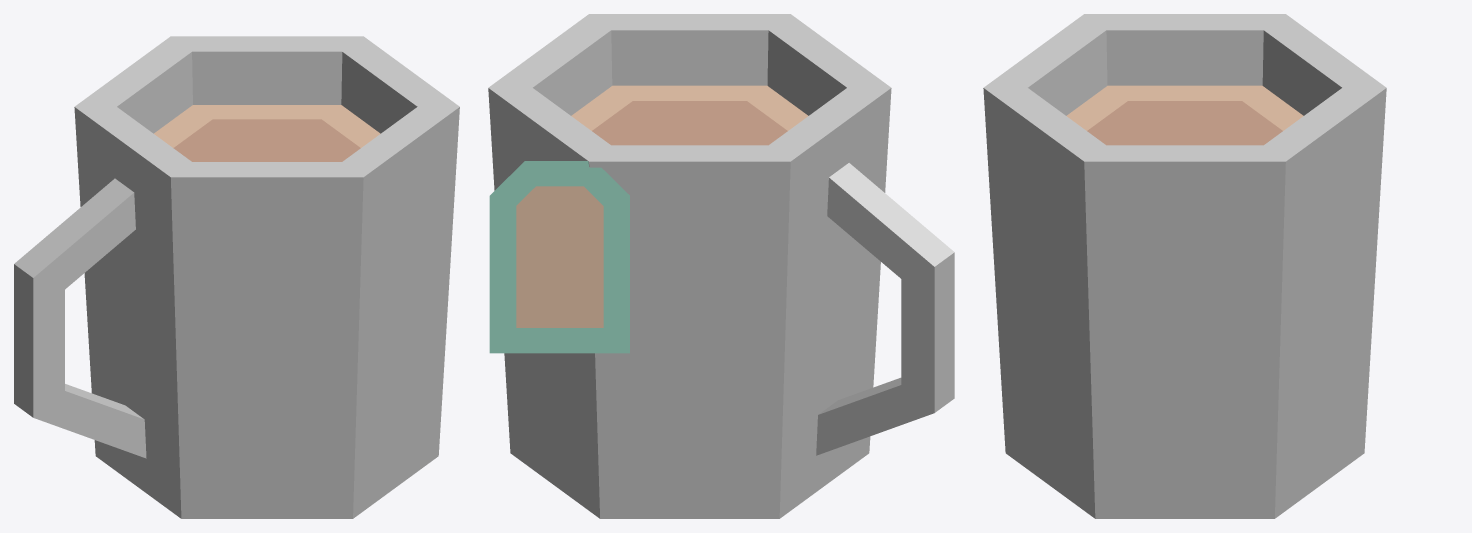
Rendered from cup.glb.
The picture shows the model from 3 angles, left to right: view 1: azimuth 30°, elevation 25°; view 2: azimuth 150°, elevation 25°; view 3: azimuth 270°, elevation 25°; orthographic projection. The views are drawn at different scales.
Visible parts, largest first — view 1: cupThea; view 2: cupThea, label; view 3: cupThea.
Boxes of the visible parts, bbox=[...] form: cupThea: bbox=[14, 36, 459, 518]; cupThea: bbox=[488, 14, 954, 518]; label: bbox=[489, 161, 629, 353]; cupThea: bbox=[983, 14, 1386, 518].
Size of the model in its own units: 0.2325 by 0.2 by 0.2351.
